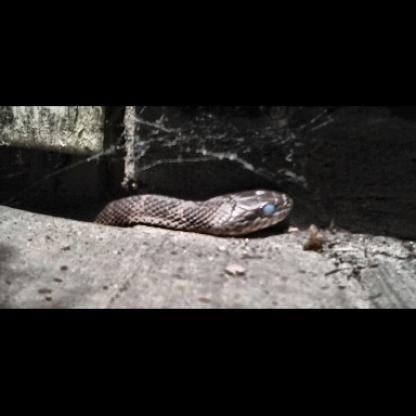Snake: (37, 164, 382, 259)
